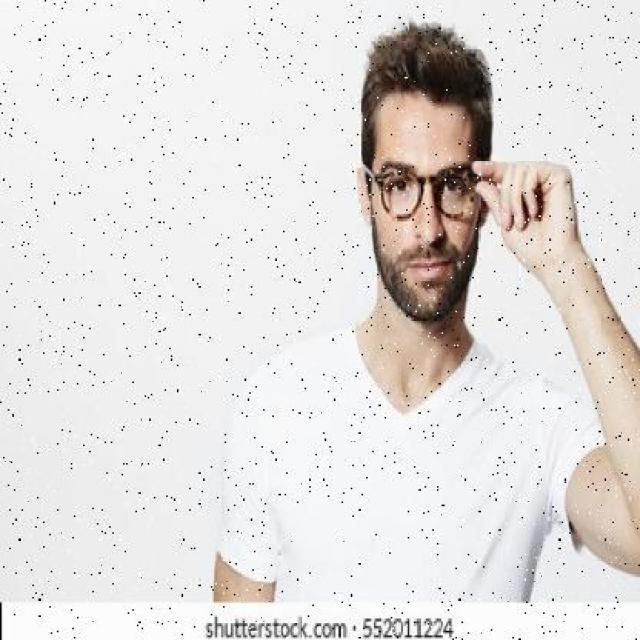glasses: (370, 160, 492, 226)
